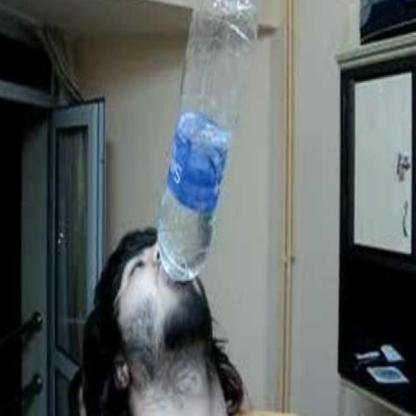Plastic Bottle: (158, 0, 256, 282)
